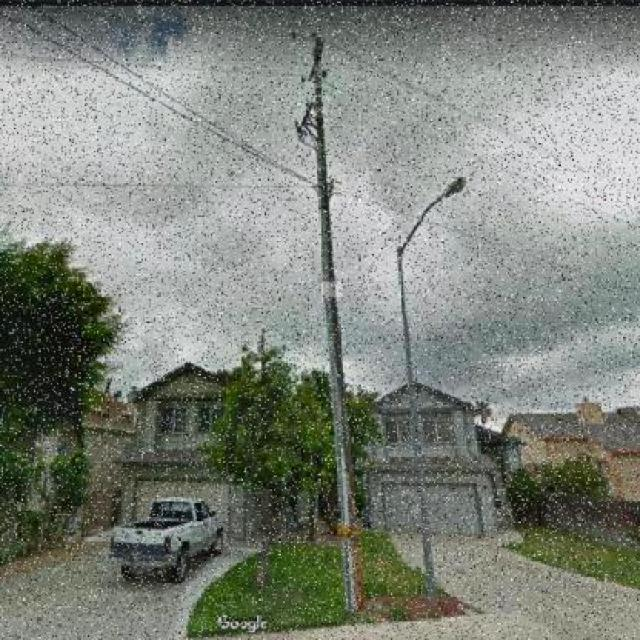pole: (309, 35, 365, 614)
wire: (28, 3, 318, 186)
